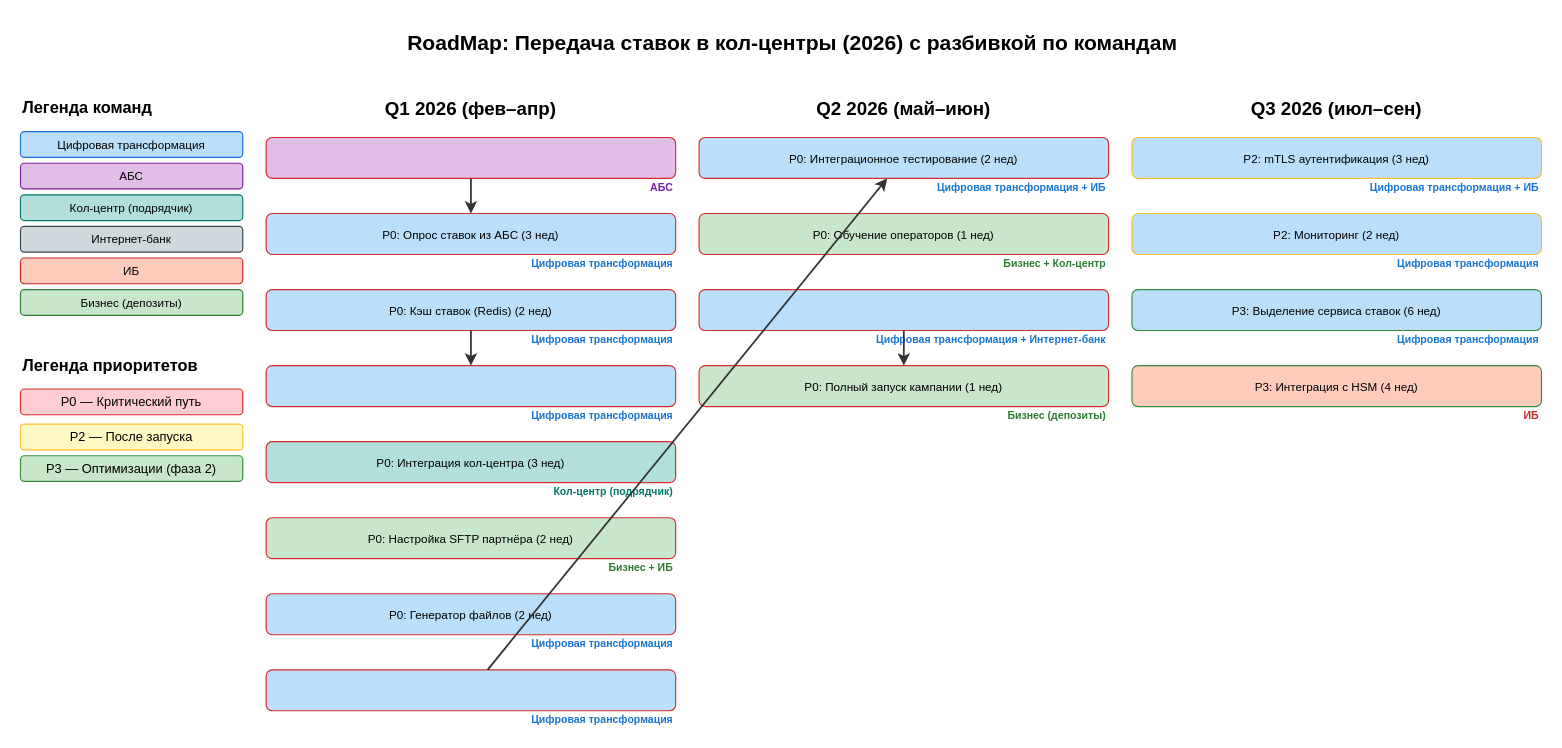
The diagram is 1562 pixels wide and 748 high, and some of its shapes have lost their labels. The box of each missing label's shape, as (x1, y1, x2, y2) in pixels:
P0: REST API кол-центра (2 нед): (265, 364, 676, 407)
P0: SFTP-клиент (2 нед): (265, 669, 676, 711)
P0: Матвью в АБС (2 нед): (265, 136, 676, 178)
P0: Пилотный запуск (2 нед): (698, 288, 1109, 331)
